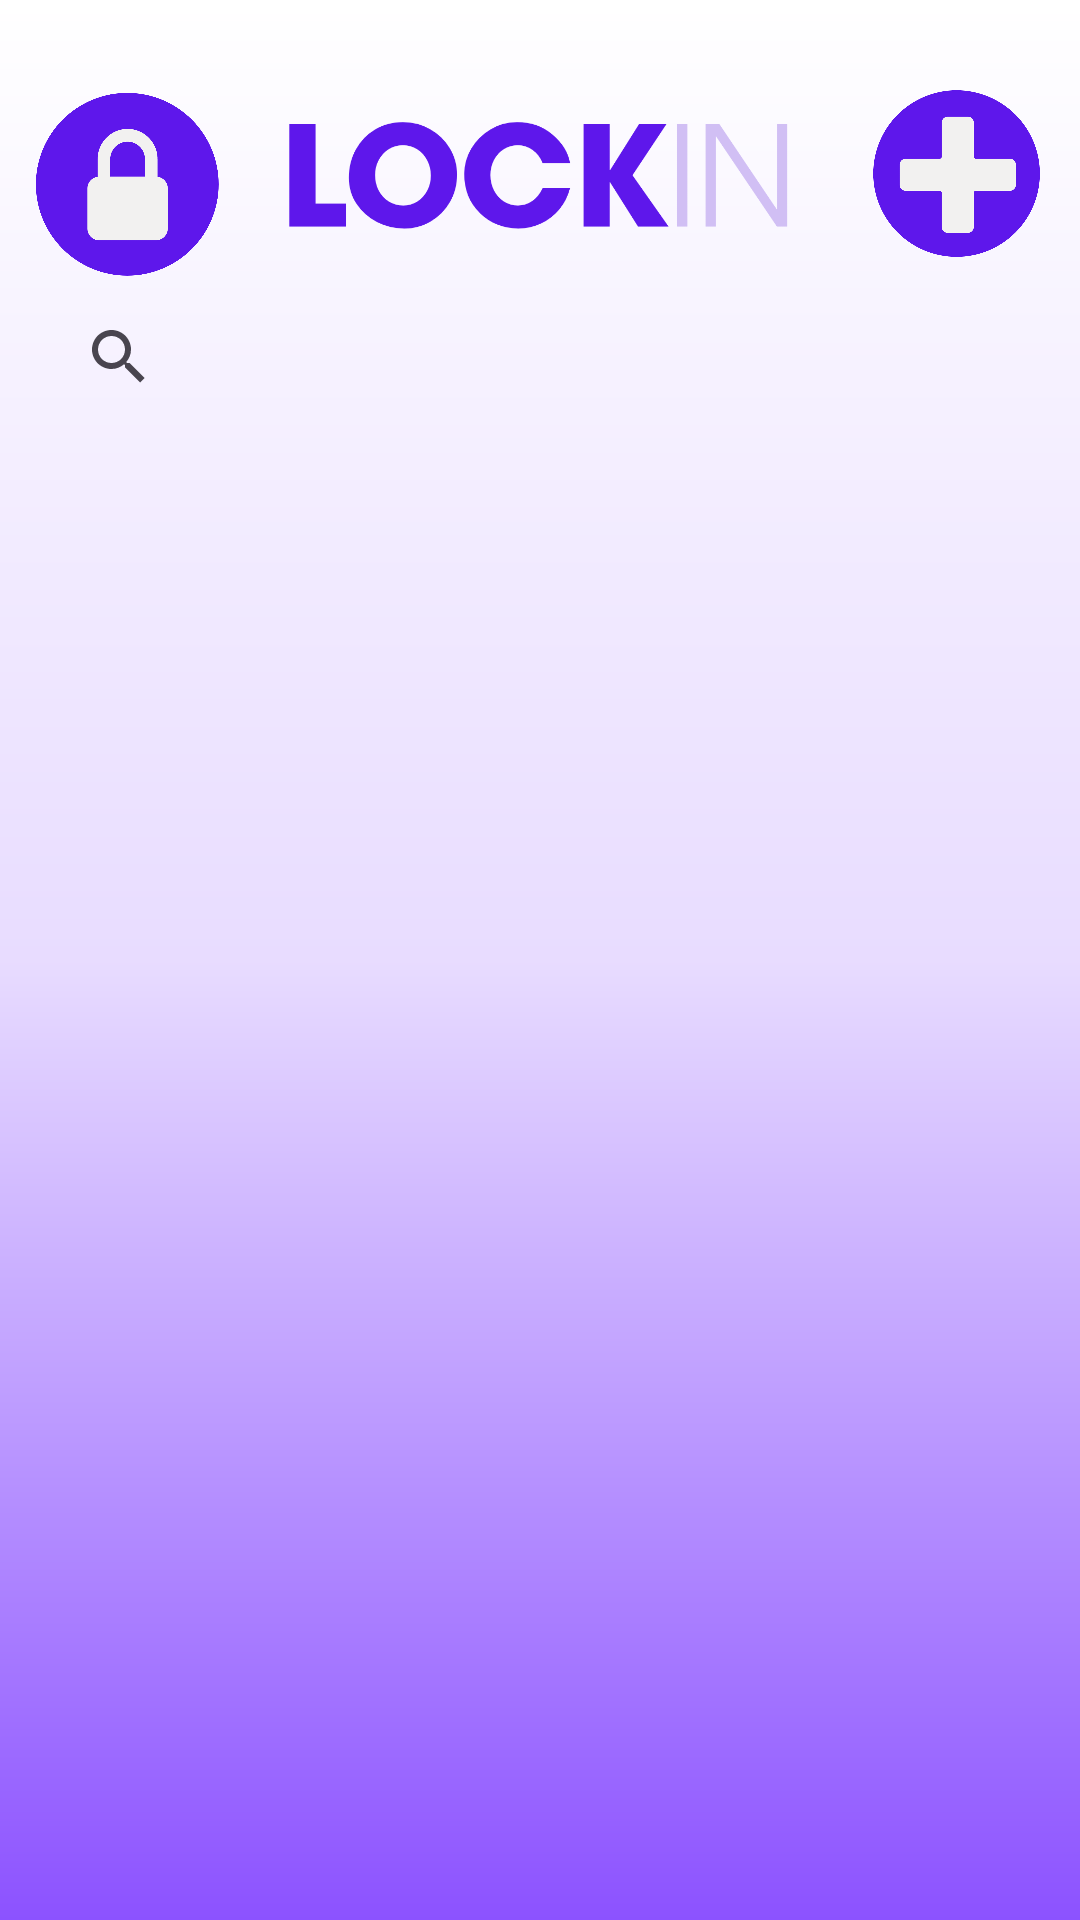

Icons on this 1080px x 1920px Android screen, each with the point to tap as [x,y]:
add: [956,173]
